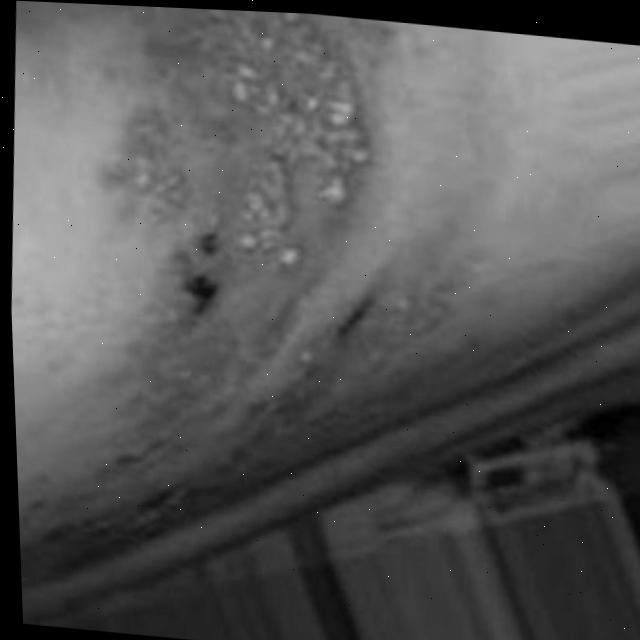Shingles: (119, 5, 376, 307)
